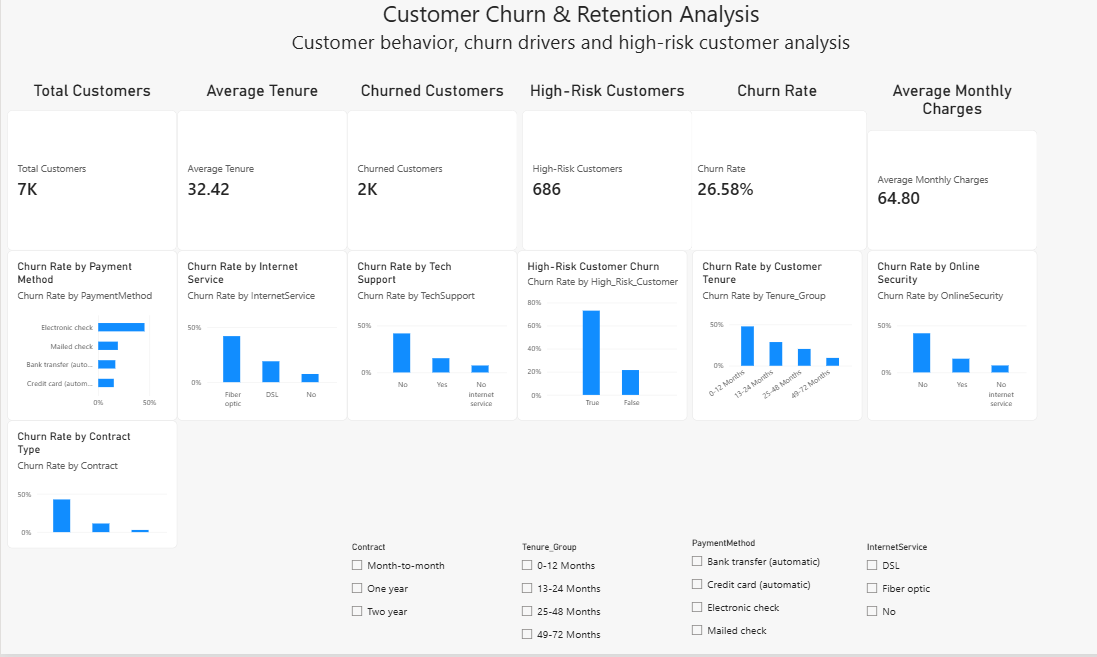

What the dashboard file says about the page in this screenshot:
{"tool":"powerbi","page":{"name":"Page 1","canvas":[1920,1080],"ordinal":0},"visuals":[{"type":"textbox","box":[389,0,1099.1,119.4],"z":0},{"type":"cardVisual","title":"Total Customers","fields":{"Data":["powerbi_churn_data.Total Customers"]},"box":[10.3,135.8,279.9,279.9],"z":1000},{"type":"cardVisual","title":"Churned Customers","fields":{"Data":["powerbi_churn_data.Churned Customers"]},"box":[570.2,135.8,280,280],"z":2000},{"type":"cardVisual","title":"Churn Rate","fields":{"Data":["powerbi_churn_data.Churn Rate"]},"box":[1130,135.8,296.4,279.9],"z":3000},{"type":"cardVisual","title":"Average Monthly Charges","fields":{"Data":["powerbi_churn_data.Average Monthly Charges"]},"box":[1426.4,135.8,280,280],"z":4000},{"type":"cardVisual","title":"Average Tenure","fields":{"Data":["powerbi_churn_data.Average Tenure"]},"box":[290.2,135.8,280,280],"z":5000},{"type":"cardVisual","title":"High-Risk Customers","fields":{"Data":["powerbi_churn_data.High-Risk Customers"]},"box":[858.3,135.8,280,280],"z":6000},{"type":"clusteredColumnChart","title":"Churn Rate by Contract Type","fields":{"Category":["powerbi_churn_data.Contract"],"Y":["powerbi_churn_data.Churn Rate"]},"box":[10.3,695.7,280,210],"z":7000},{"type":"clusteredColumnChart","title":"Churn Rate by Customer Tenure","fields":{"Category":["powerbi_churn_data.Tenure_Group"],"Y":["powerbi_churn_data.Churn Rate"]},"box":[1138.3,415.8,280,280],"z":8000},{"type":"clusteredBarChart","title":"Churn Rate by Payment Method","fields":{"Category":["powerbi_churn_data.PaymentMethod"],"Y":["powerbi_churn_data.Churn Rate"]},"box":[10.3,415.8,280,280],"z":9000},{"type":"clusteredColumnChart","title":"Churn Rate by Internet Service","fields":{"Category":["powerbi_churn_data.InternetService"],"Y":["powerbi_churn_data.Churn Rate"]},"box":[290.2,415.8,280,280],"z":10000},{"type":"clusteredColumnChart","title":"Churn Rate by Online Security","fields":{"Category":["powerbi_churn_data.OnlineSecurity"],"Y":["powerbi_churn_data.Churn Rate"]},"box":[1426.4,415.8,279.9,279.9],"z":11000},{"type":"clusteredColumnChart","title":"Churn Rate by Tech Support","fields":{"Category":["powerbi_churn_data.TechSupport"],"Y":["powerbi_churn_data.Churn Rate"]},"box":[570.2,415.8,280,280],"z":12000},{"type":"clusteredColumnChart","title":"High-Risk Customer Churn","fields":{"Category":["powerbi_churn_data.High_Risk_Customer"],"Y":["powerbi_churn_data.Churn Rate"]},"box":[850.1,415.8,280,280],"z":13000},{"type":"slicer","fields":{"Values":["powerbi_churn_data.Contract"]},"box":[570.2,895.4,279.9,164.7],"z":14000},{"type":"slicer","fields":{"Values":["powerbi_churn_data.Tenure_Group"]},"box":[850.1,895.4,279.9,179.1],"z":15000},{"type":"slicer","fields":{"Values":["powerbi_churn_data.PaymentMethod"]},"box":[1130,889.2,279.9,191.4],"z":16000},{"type":"slicer","fields":{"Values":["powerbi_churn_data.InternetService"]},"box":[1418.2,895.4,279.9,185.2],"z":17000}]}

Visuals, with their boxes on the page's 1920x1080 design canvas (x1, y1, x2, y2). These are canvas units, not pixel positions in the 1097x657 screenshot, which may show the page scaled, cropped or inside an application window:
textbox: l=389, t=0, r=1488, b=119
"Total Customers" cardVisual: l=10, t=136, r=290, b=416
"Churned Customers" cardVisual: l=570, t=136, r=850, b=416
"Churn Rate" cardVisual: l=1130, t=136, r=1426, b=416
"Average Monthly Charges" cardVisual: l=1426, t=136, r=1706, b=416
"Average Tenure" cardVisual: l=290, t=136, r=570, b=416
"High-Risk Customers" cardVisual: l=858, t=136, r=1138, b=416
"Churn Rate by Contract Type" clusteredColumnChart: l=10, t=696, r=290, b=906
"Churn Rate by Customer Tenure" clusteredColumnChart: l=1138, t=416, r=1418, b=696
"Churn Rate by Payment Method" clusteredBarChart: l=10, t=416, r=290, b=696
"Churn Rate by Internet Service" clusteredColumnChart: l=290, t=416, r=570, b=696
"Churn Rate by Online Security" clusteredColumnChart: l=1426, t=416, r=1706, b=696
"Churn Rate by Tech Support" clusteredColumnChart: l=570, t=416, r=850, b=696
"High-Risk Customer Churn" clusteredColumnChart: l=850, t=416, r=1130, b=696
slicer - powerbi_churn_data.Contract: l=570, t=895, r=850, b=1060
slicer - powerbi_churn_data.Tenure_Group: l=850, t=895, r=1130, b=1074
slicer - powerbi_churn_data.PaymentMethod: l=1130, t=889, r=1410, b=1081
slicer - powerbi_churn_data.InternetService: l=1418, t=895, r=1698, b=1081
